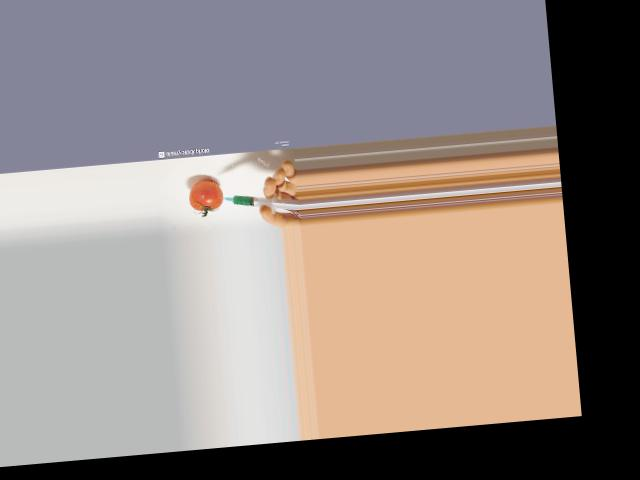tomato: (188, 178, 224, 211)
